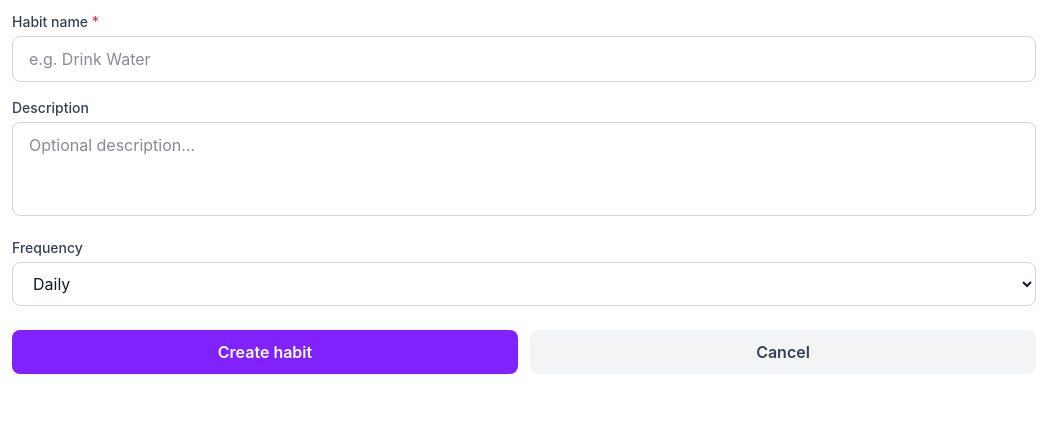
habit form › shows a validation error when habit name is empty
This screenshot has width=1048, height=423.
Click the button with test id "habit-save-button".
click(265, 352)  # box [12,330,518,374]
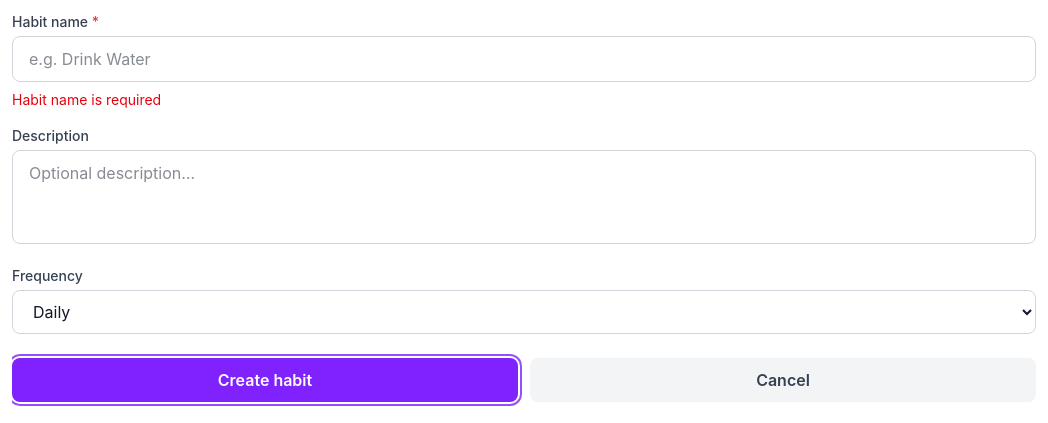
expect the message reads "Habit name is required": met, box [12,91,161,108]
